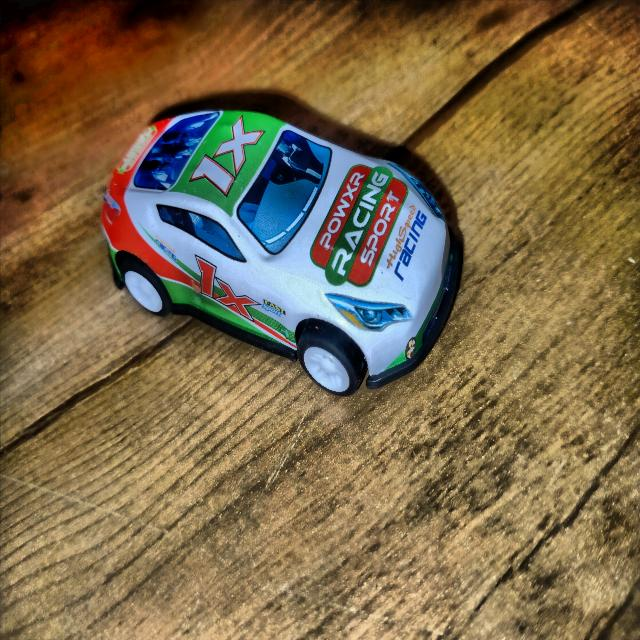Car: (102, 110, 458, 396)
